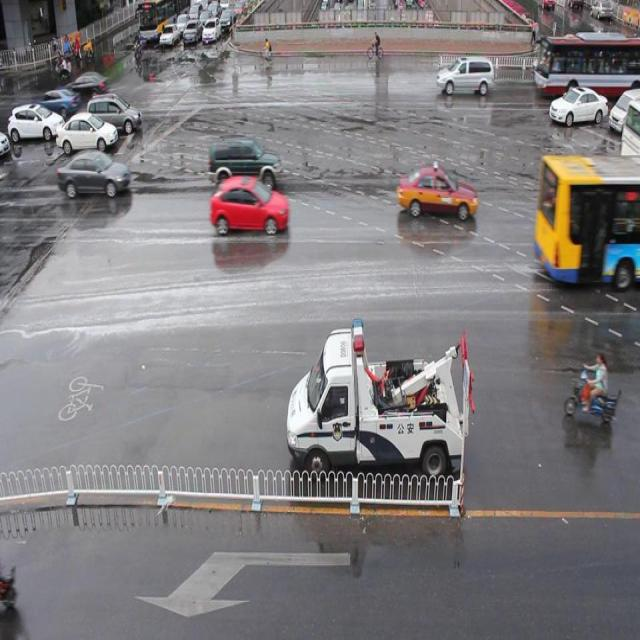car: (208, 175, 289, 238), (396, 162, 476, 223), (210, 136, 282, 190), (546, 85, 607, 127)
truck: (435, 56, 493, 99)
van: (537, 156, 640, 283), (534, 37, 640, 103), (620, 102, 640, 210)
